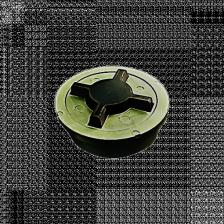PMN2: (50, 60, 173, 167)
